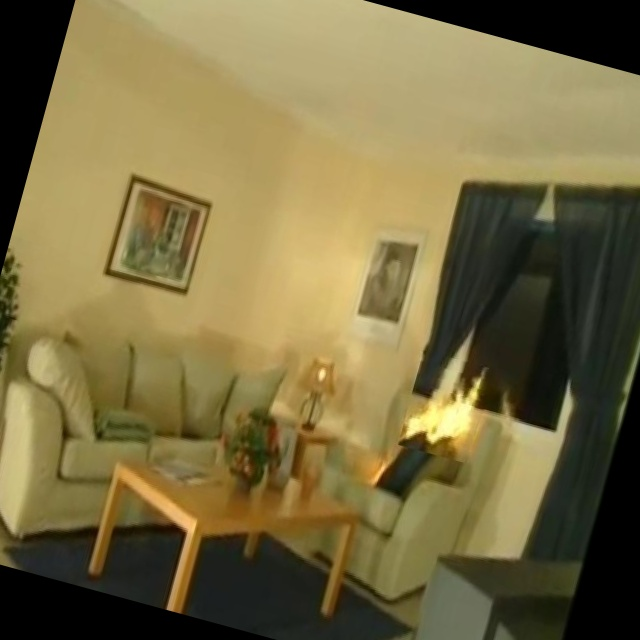fire: (404, 359, 507, 457)
